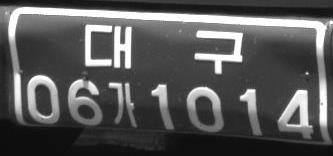0: (185, 85, 226, 132), (26, 73, 60, 124)
1: (235, 89, 271, 136), (146, 83, 178, 130)
4: (278, 88, 313, 139)
6: (67, 77, 104, 126)
가: (108, 81, 138, 127)
대구_D: (84, 23, 244, 74)
